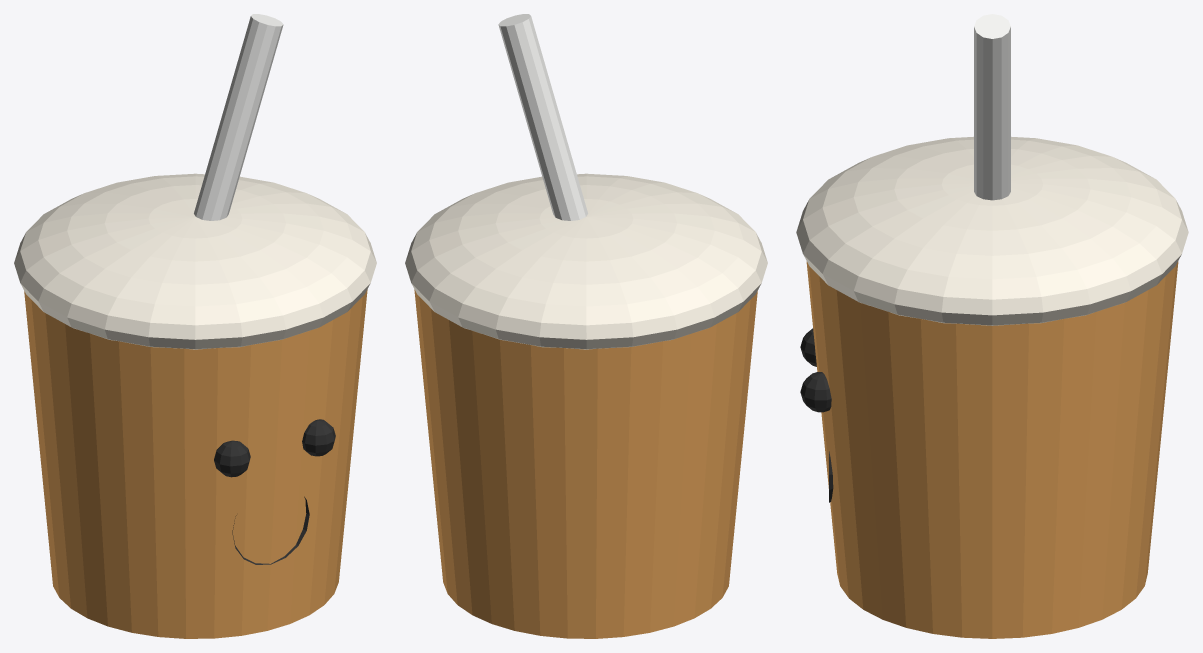
File: MajimeCup.fbx
3 views of the same model, side by side, from view 1: azimuth 30°, elevation 25°; view 2: azimuth 150°, elevation 25°; view 3: azimuth 270°, elevation 25° (orthographic). The views are drawn at different scales.
Parts seen in each view (by area): view 1: CupBody, CupLid, Straw, EyeLeft, EyeRight; view 2: CupBody, CupLid, Straw; view 3: CupBody, CupLid, Straw, EyeRight.
Part boxes in pixels (bbox=[...]): CupBody: bbox=[24, 289, 367, 638]; CupLid: bbox=[14, 173, 376, 349]; Straw: bbox=[194, 14, 283, 220]; EyeLeft: bbox=[214, 440, 250, 477]; EyeRight: bbox=[302, 419, 335, 456]; CupBody: bbox=[414, 289, 757, 638]; CupLid: bbox=[405, 173, 767, 349]; Straw: bbox=[498, 14, 587, 220]; CupBody: bbox=[806, 261, 1178, 638]; CupLid: bbox=[796, 136, 1188, 325]; Straw: bbox=[974, 14, 1010, 200]; EyeRight: bbox=[800, 372, 831, 412].
Size of the model in its own units: 96 by 159 by 96.
